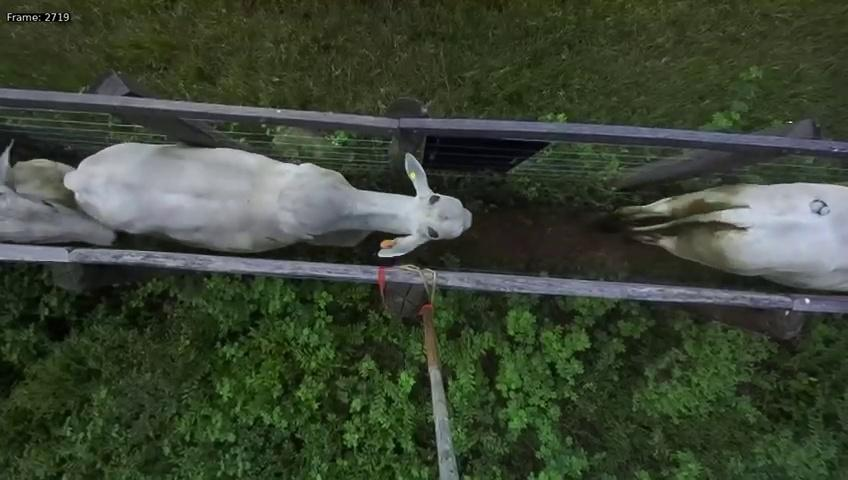cattle: (59, 134, 472, 260)
